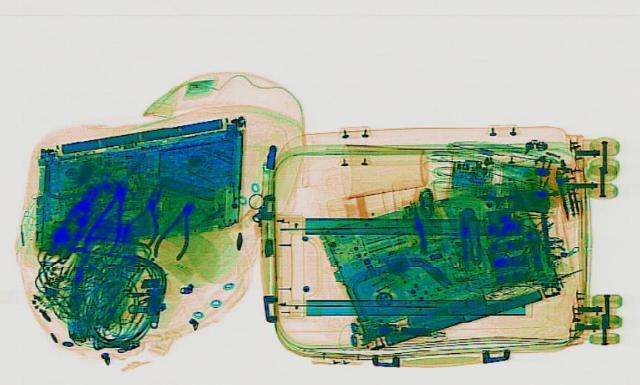Pliers: (75, 178, 143, 255), (114, 183, 178, 248), (148, 196, 206, 258)
